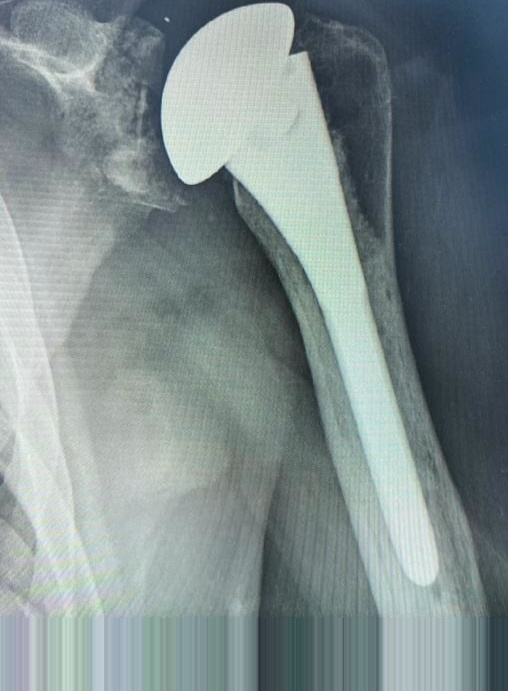Shoulder - Anotomical - Stryker: (149, 1, 348, 188)
